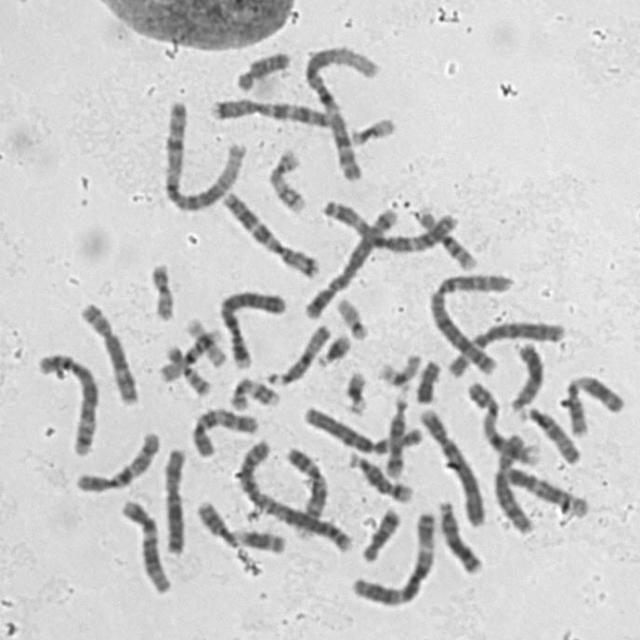A1: (298, 38, 383, 183), (155, 93, 247, 213)
A2: (228, 432, 356, 554), (423, 264, 518, 378)
A3: (315, 192, 469, 258), (344, 503, 438, 608)
B4: (412, 400, 488, 529), (214, 282, 289, 369)
B5: (298, 198, 402, 321), (30, 344, 101, 458)
C10: (68, 424, 163, 496), (185, 398, 262, 459)
C11: (190, 494, 290, 556), (559, 366, 627, 438)
C12: (114, 493, 174, 595), (493, 461, 590, 520)
C6: (440, 313, 568, 379), (298, 398, 427, 456)
C7: (215, 186, 322, 280), (205, 90, 342, 130)
C8: (73, 294, 141, 407), (489, 427, 536, 535)
C9: (460, 374, 540, 467), (280, 440, 330, 543)
D13: (431, 492, 486, 576), (503, 334, 546, 414)
D14: (343, 445, 416, 505), (378, 382, 412, 479)
D15: (260, 317, 333, 388), (518, 398, 584, 466)
E16: (408, 201, 479, 271), (153, 322, 225, 382)
E17: (262, 142, 309, 216), (224, 370, 282, 412)
E18: (230, 44, 294, 92), (356, 500, 403, 564)
F19: (180, 310, 230, 368), (374, 349, 426, 386)
F20: (158, 338, 214, 398), (143, 255, 177, 322)
G21: (309, 326, 354, 368), (337, 363, 371, 417)
G22: (331, 290, 372, 341), (349, 117, 397, 148)
X: (157, 441, 189, 556)
Y: (410, 353, 443, 405)
